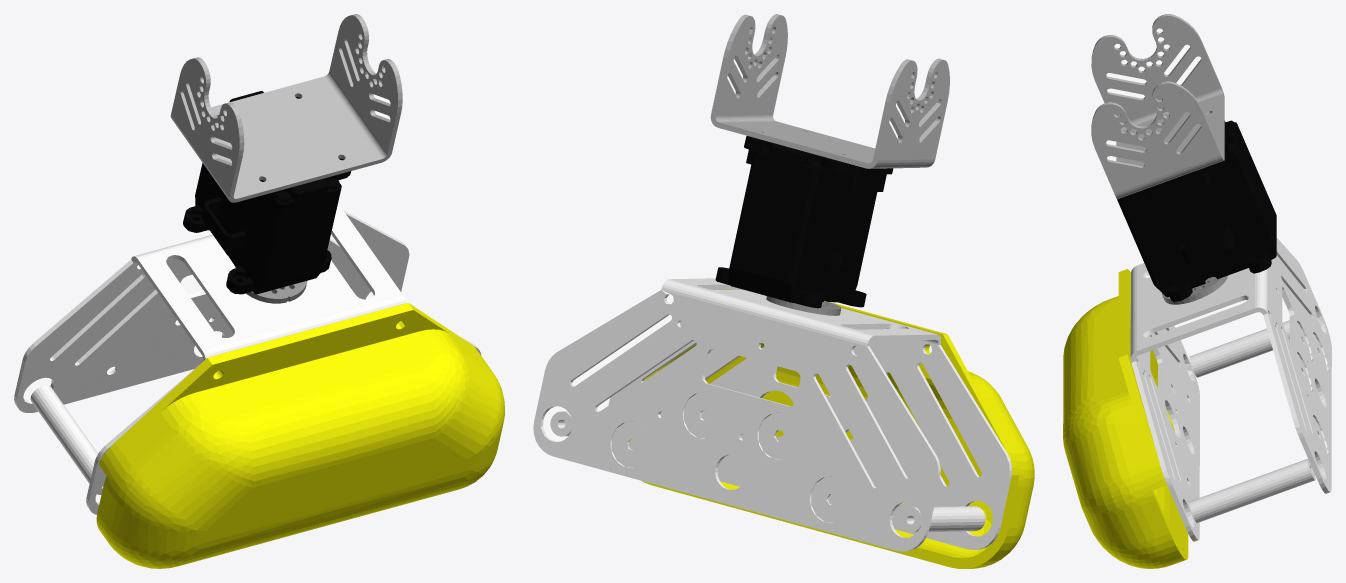
Rendered from mini2_wrist_module.dae.
3 renders of one model, left to right at view 1: azimuth 30°, elevation 25°; view 2: azimuth 150°, elevation 25°; view 3: azimuth 270°, elevation 25°, orthographic. The views are drawn at different scales.
Parts seen in each view (by area): view 1: node; view 2: node; view 3: node.
Boxes of the visible parts, x1,y1,x2,y2 form: node: (14, 14, 504, 568); node: (533, 14, 1034, 568); node: (1063, 14, 1331, 568).
Bounding box in the file's own units: 12.69 × 15.32 × 8.21.
Materials: 1 (1 with a texture image).
